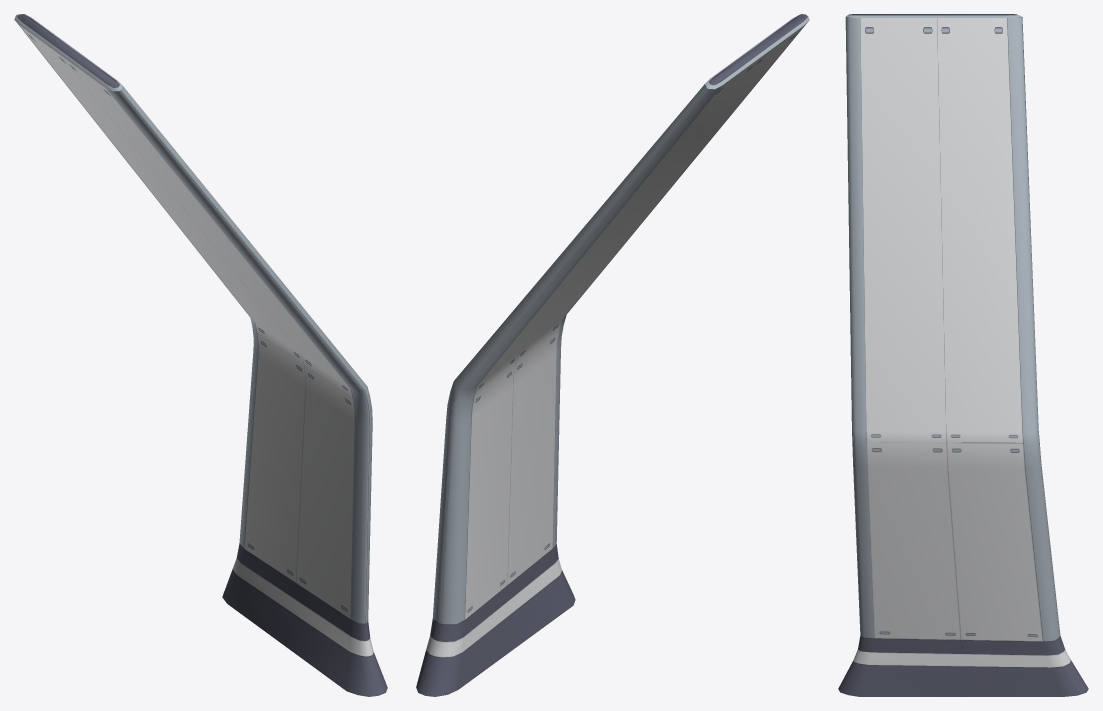
Rendered from Wing_04.FBX.
The picture shows the model from 3 angles, left to right: view 1: azimuth 30°, elevation 25°; view 2: azimuth 150°, elevation 25°; view 3: azimuth 270°, elevation 25°; orthographic projection. The views are drawn at different scales.
Visible parts, largest first — view 1: Wing_04; view 2: Wing_04; view 3: Wing_04.
Part boxes in pixels (x1,y1,x2,y2): Wing_04: (14, 14, 387, 696); Wing_04: (416, 14, 809, 696); Wing_04: (838, 14, 1088, 696).
Size of the model in its own units: 4.4 by 10.04 by 4.
